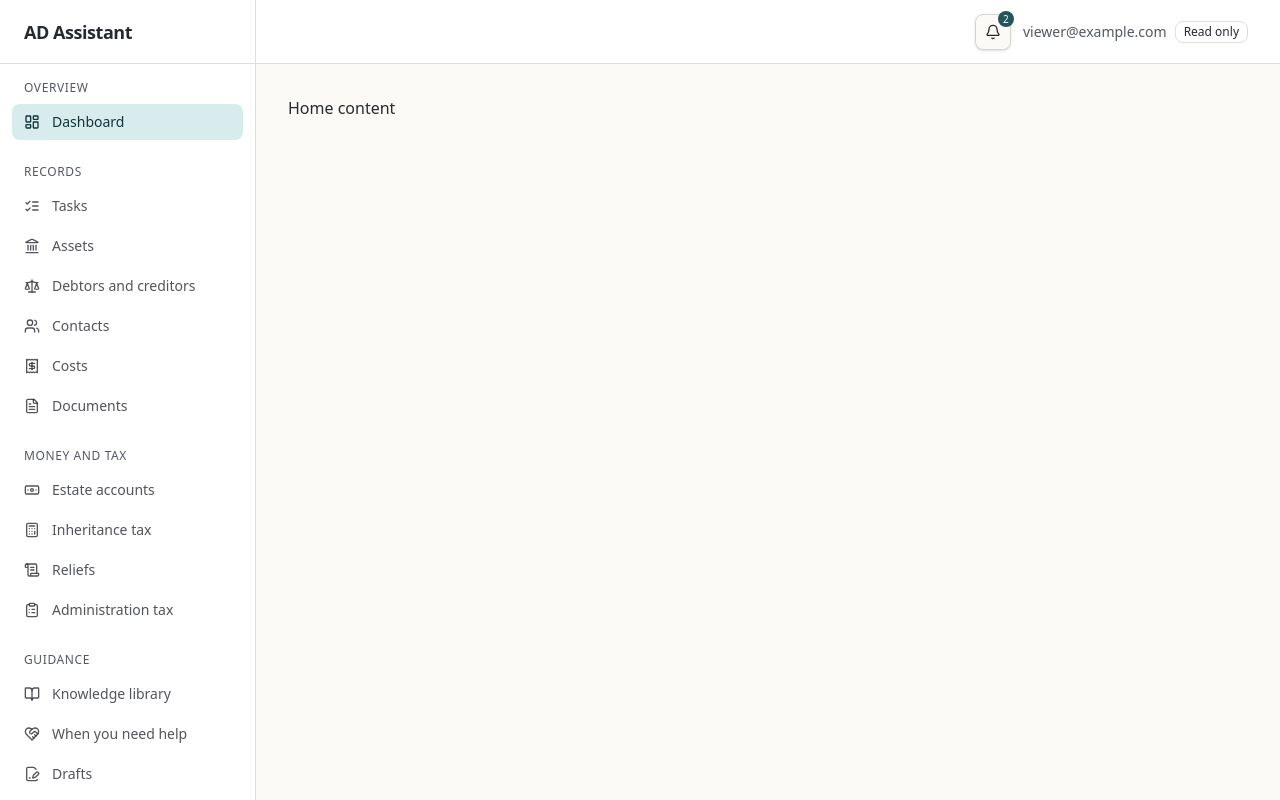
AppLayout notification bell › gives a viewer the list without mark-read affordances
Step 1. Click the button named "Notifications (2 unread)" → [993, 32], box [975,14,1011,50]
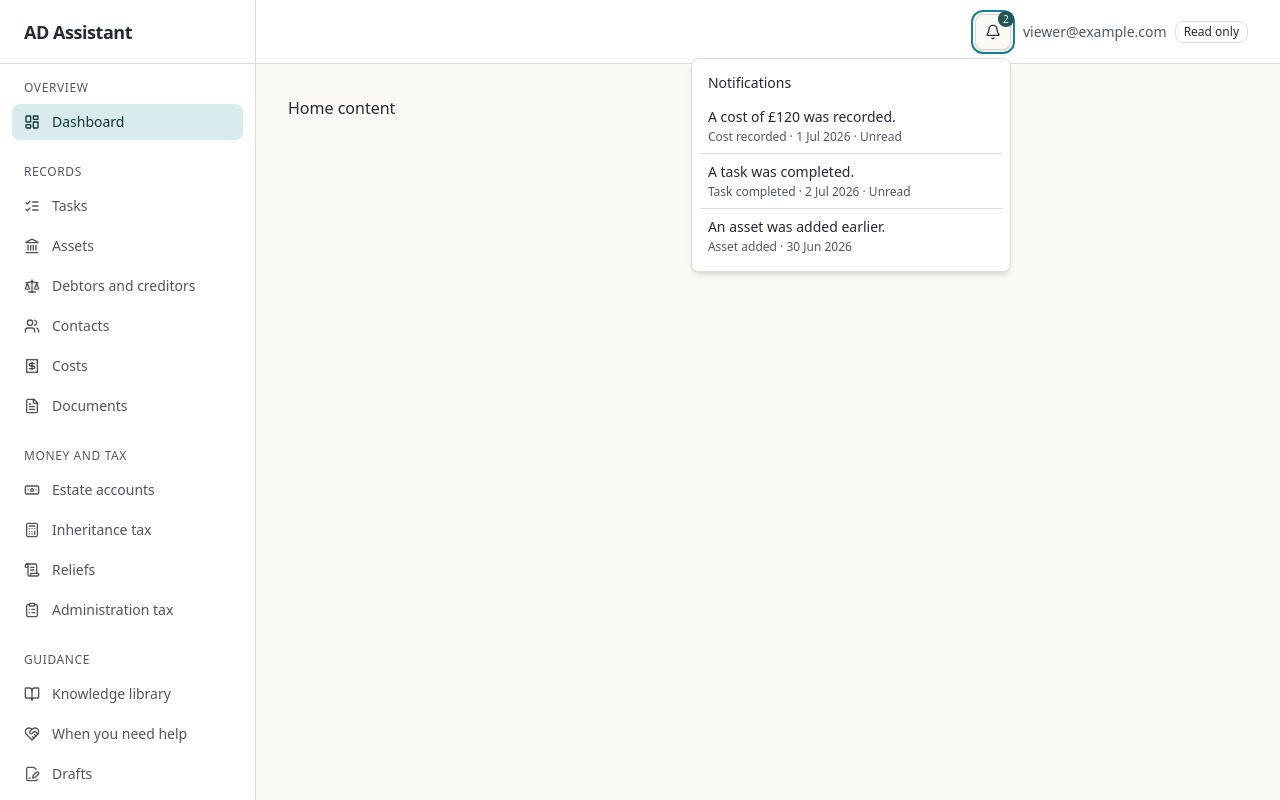
expect the text "A cost of £120 was recorded." is shown: met, box [708,106,896,126]
